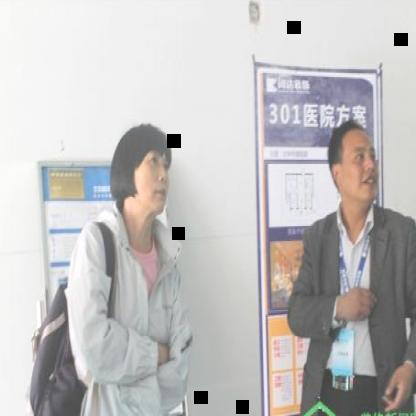head: (108, 117, 176, 229), (326, 119, 378, 216)
